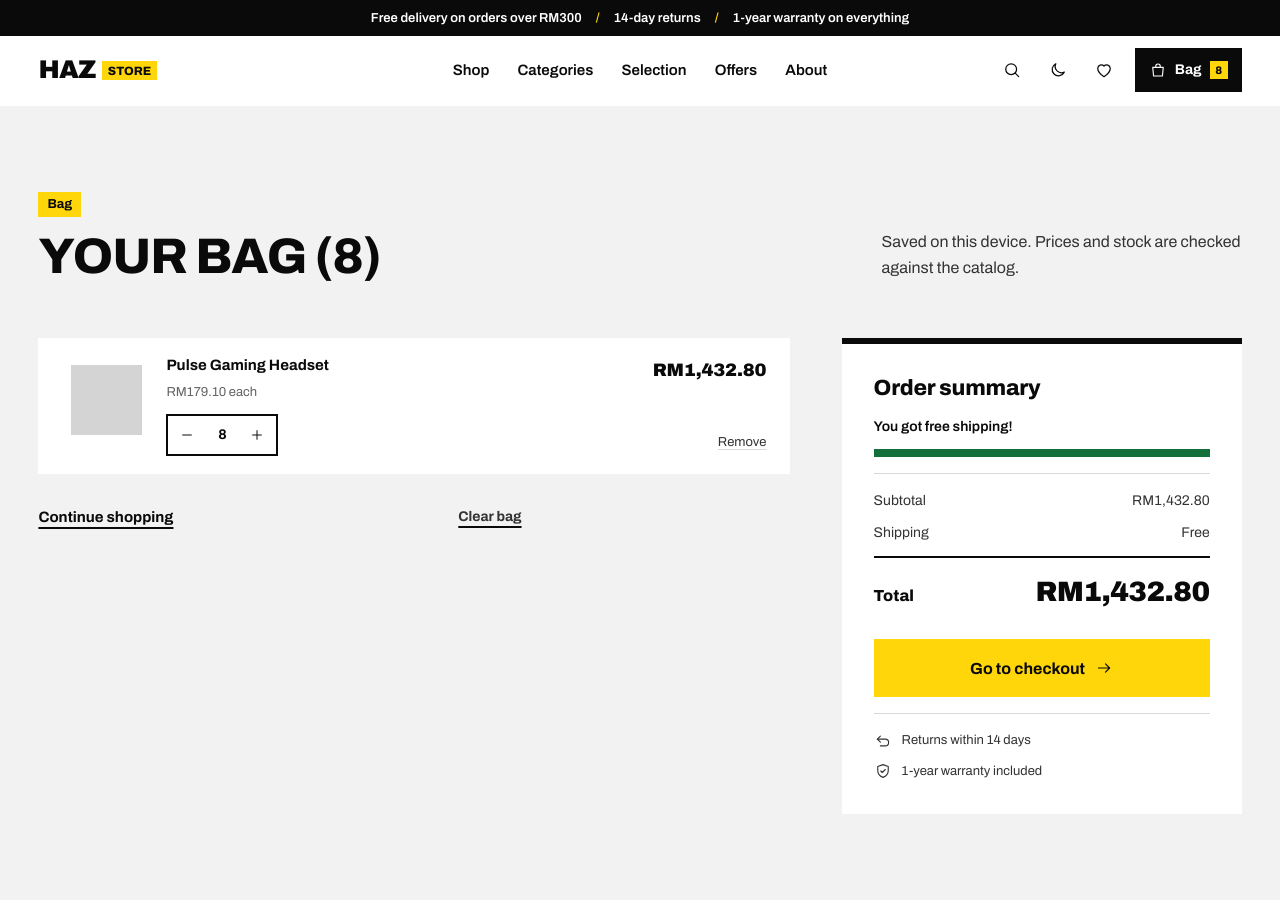
Test: bag › drops invalid saved items and shows the empty state when cleared
This screenshot has width=1280, height=900.
Check: the heading "Your bag (8)" is shown, box [38,229,380,283]
Step 1. Click the button "Clear bag" → (490, 518), box [190,498,790,537]
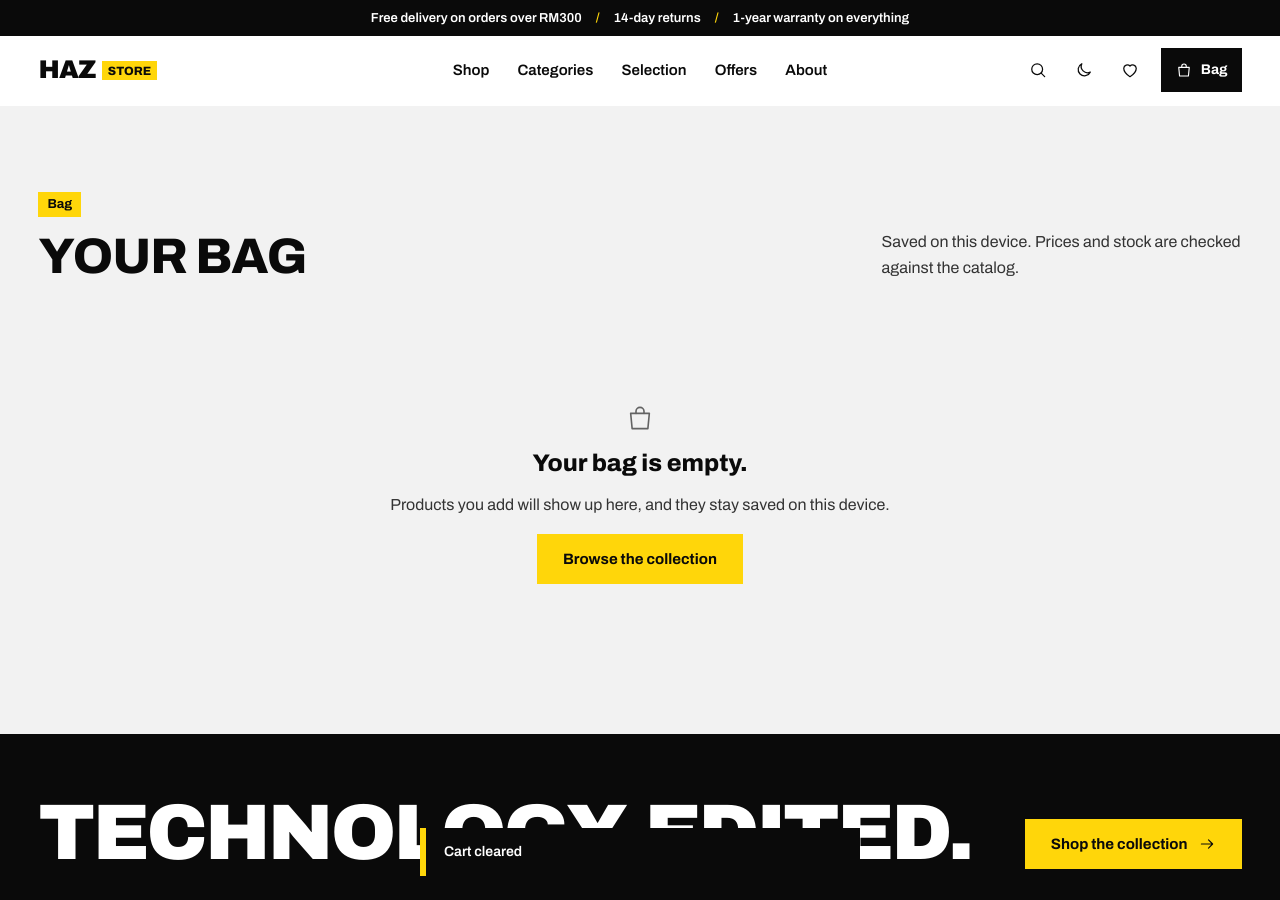
Check: the heading "Your bag is empty." is shown, box [532,450,748,476]
